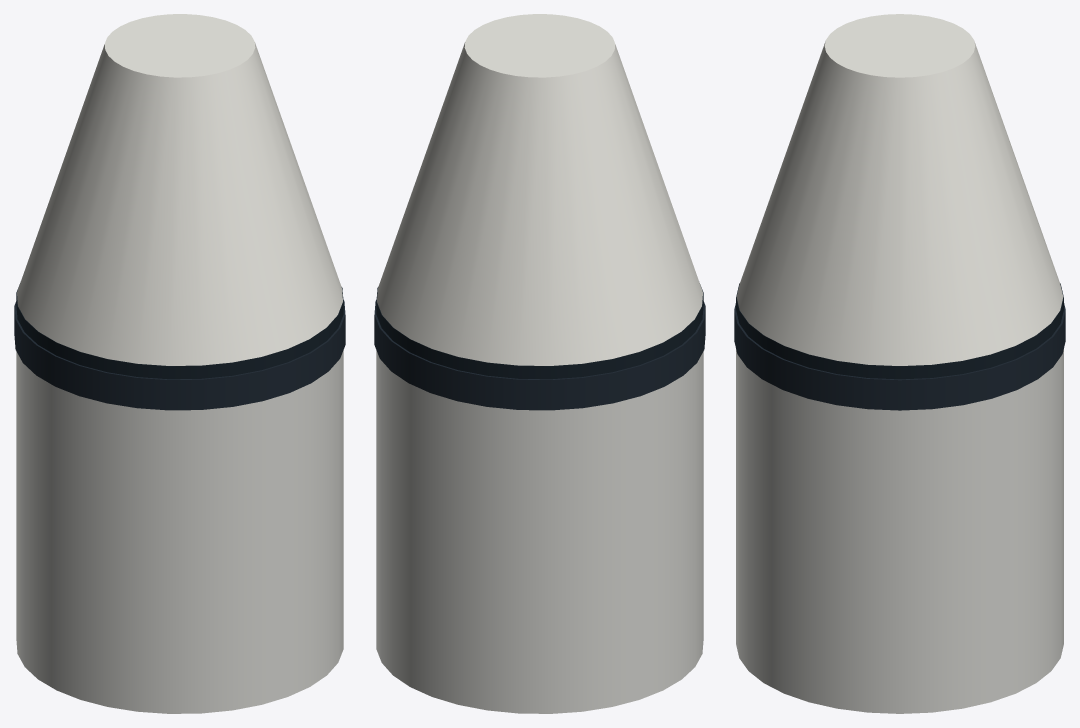
The model's file is dragon.glb.
The picture shows the model from 3 angles, left to right: view 1: azimuth 30°, elevation 25°; view 2: azimuth 150°, elevation 25°; view 3: azimuth 270°, elevation 25°; orthographic projection.
Parts seen in each view (by area): view 1: body-0, capsule, interstage-0, heatshield; view 2: body-0, capsule, interstage-0, heatshield; view 3: body-0, capsule, interstage-0, heatshield.
Part boxes in pixels (<box>): body-0: <box>16,350,343,713</box>; capsule: <box>17,14,342,365</box>; interstage-0: <box>14,299,345,410</box>; heatshield: <box>16,284,343,379</box>; body-0: <box>376,350,703,713</box>; capsule: <box>377,14,702,365</box>; interstage-0: <box>374,299,705,410</box>; heatshield: <box>376,284,703,379</box>; body-0: <box>736,349,1063,713</box>; capsule: <box>736,14,1063,365</box>; interstage-0: <box>734,303,1065,410</box>; heatshield: <box>736,283,1063,379</box>.
Size of the model in its own units: 4.05 by 8.37 by 4.05.
